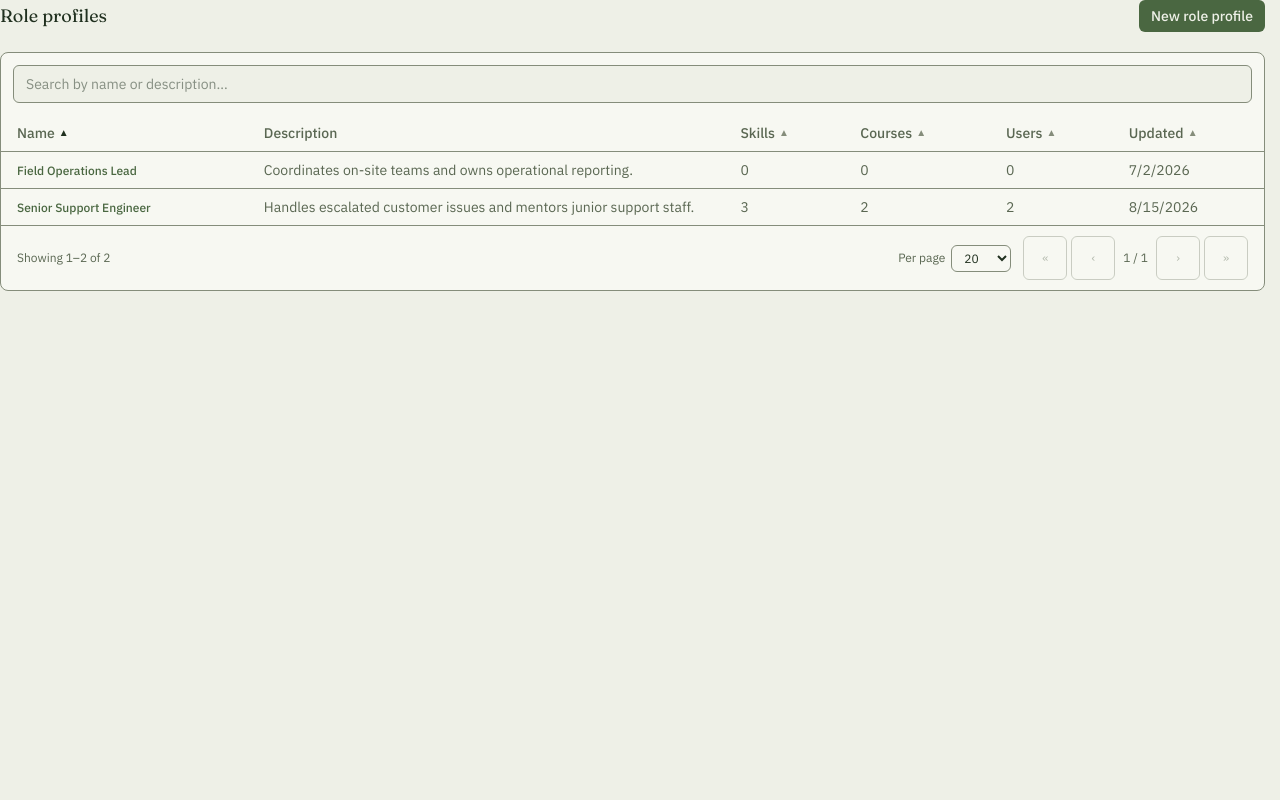
Test: EmployerRoleProfilesConsole (controlled) › opens the create dialog when "New role profile" is clicked
What coordinates should you click on to do the following:
click the button "New role profile"
I would click on:
 (1202, 16)
Its box is [1139, 0, 1265, 32].
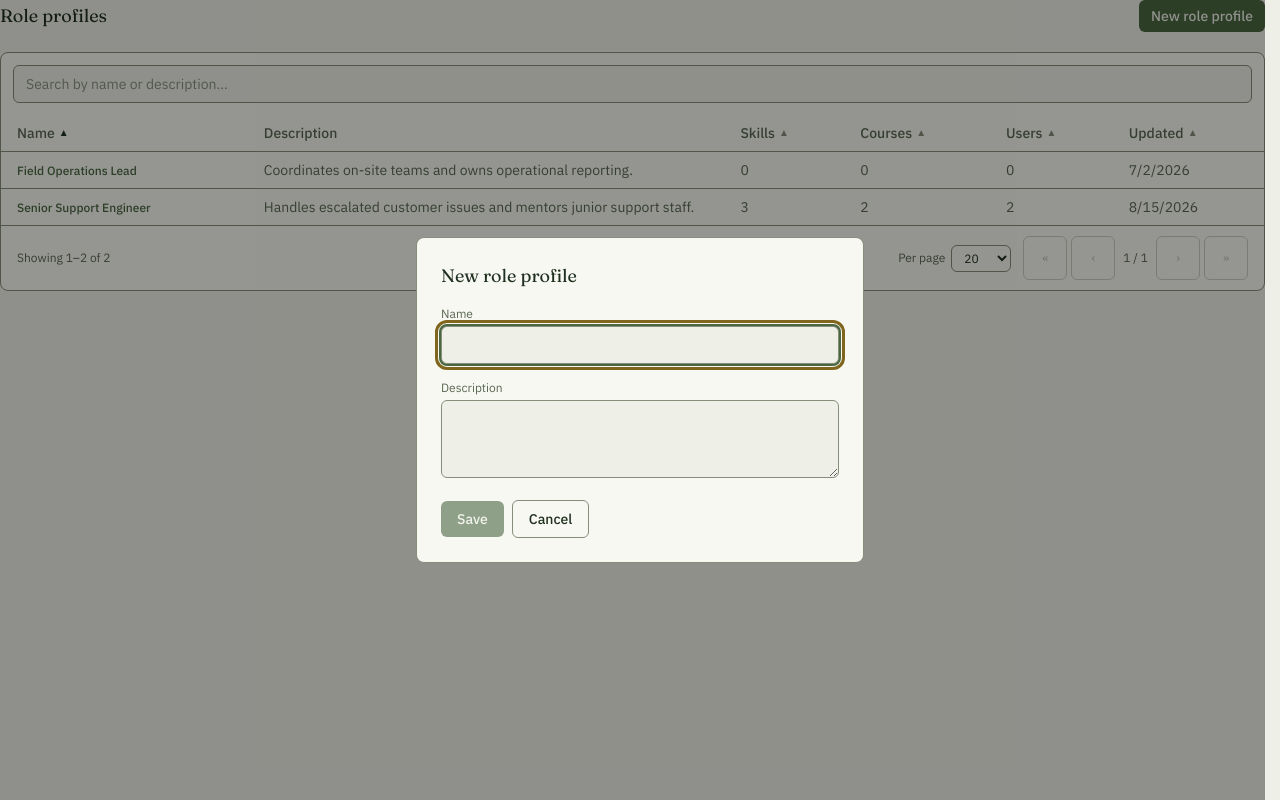
Expected: the field labelled "Name" is shown, [441, 326, 839, 364]
